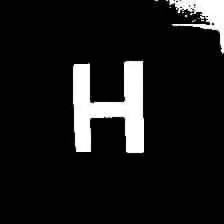LTR_H: (66, 50, 148, 158)
